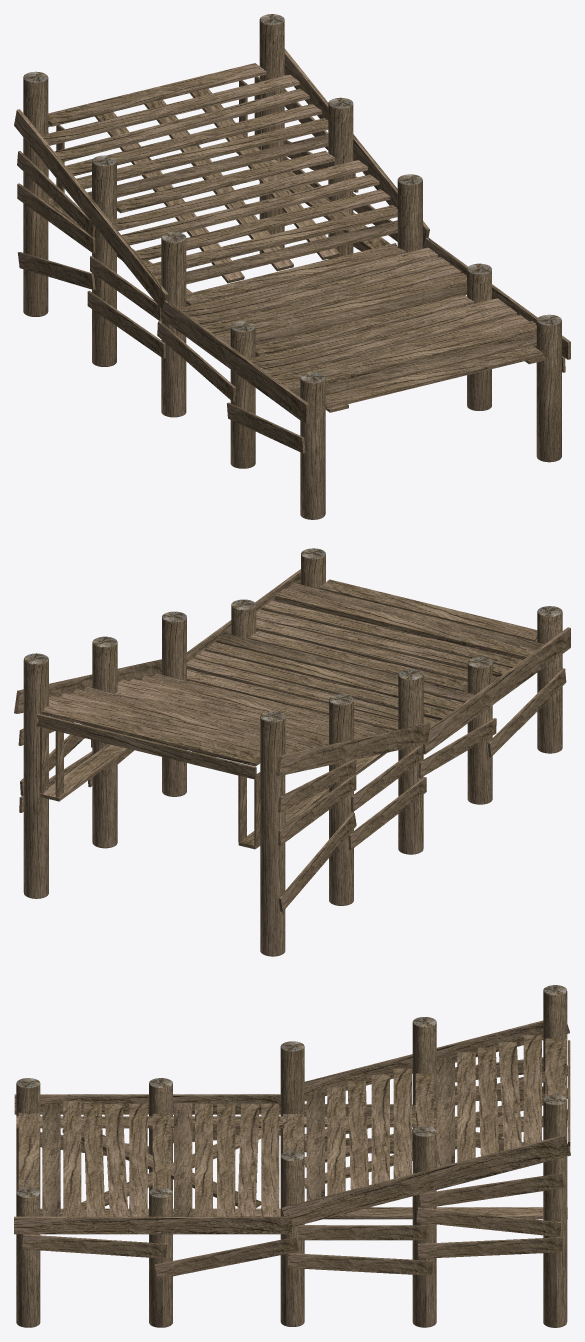
Rendered from bridge_ramp.fbx.fbx.
The picture shows the model from 3 angles, top to bottom: view 1: azimuth 30°, elevation 25°; view 2: azimuth 150°, elevation 25°; view 3: azimuth 270°, elevation 25°; orthographic projection. The views are drawn at different scales.
Parts seen in each view (by area): view 1: Cylinder.006, Cube.028, Cylinder.009, Cylinder.002, Cylinder.001, Cylinder.008, Cube.027, Cube.019, Cube.004, Cube.020, Cube.003, Cube.013 (+38 smaller); view 2: Cylinder.006, Cylinder.007, Cube.013, Cylinder.003, Cube.027, Cylinder.002, Cylinder.001, Cube.028, Cube.018, Cube.014, Cube.056, Cube.024 (+39 smaller); view 3: Cube.026, Cube.025, Cylinder.007, Cube.028, Cylinder, Cylinder.003, Cylinder.009, Cube.027, Cylinder.004, Cube.040, Cube.039, Cube.045 (+41 smaller).
Part boxes in pixels (x1,y1,x2,y2): Cylinder.006: (23, 71, 48, 316); Cube.028: (14, 109, 168, 310); Cylinder.009: (536, 314, 561, 462); Cylinder.002: (92, 155, 116, 366); Cylinder.001: (161, 232, 186, 417); Cylinder.008: (300, 372, 325, 519); Cube.027: (160, 300, 309, 424); Cube.019: (41, 74, 299, 145); Cube.004: (110, 160, 367, 230); Cube.020: (54, 88, 309, 161); Cube.003: (121, 174, 379, 245); Cube.013: (280, 321, 536, 392); Cylinder.006: (260, 711, 285, 956); Cylinder.007: (23, 653, 48, 898); Cube.013: (274, 588, 536, 659); Cylinder.003: (92, 636, 117, 848); Cube.027: (423, 627, 570, 754); Cylinder.002: (329, 694, 353, 905); Cylinder.001: (398, 669, 423, 854); Cube.028: (276, 723, 430, 776); Cube.018: (41, 703, 260, 766); Cube.014: (262, 600, 522, 667); Cube.056: (36, 714, 256, 779); Cube.024: (318, 579, 537, 641); Cube.026: (281, 1135, 570, 1227); Cube.025: (14, 1216, 291, 1234); Cylinder.007: (543, 1094, 567, 1327); Cube.028: (304, 1020, 569, 1101); Cylinder: (280, 1151, 304, 1326); Cylinder.003: (412, 1126, 436, 1327); Cylinder.009: (16, 1187, 40, 1327); Cube.027: (14, 1094, 280, 1114); Cylinder.004: (149, 1187, 172, 1327); Cube.040: (418, 1237, 562, 1258); Cube.039: (287, 1253, 432, 1275); Cube.045: (416, 1207, 561, 1236).
Size of the model in its own units: 9.17 by 7.8 by 17.59.
7 materials, 7 textured.
